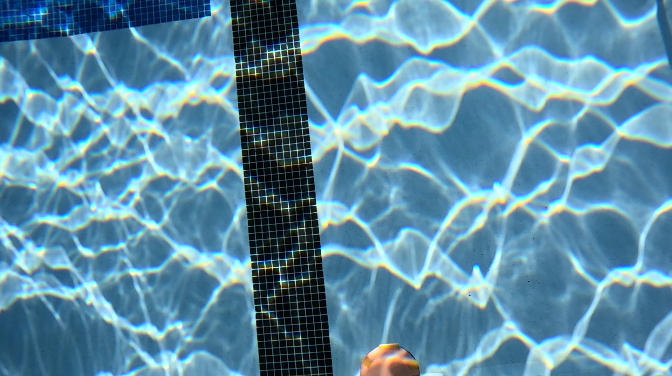pathmarker: (361, 343, 417, 375)
